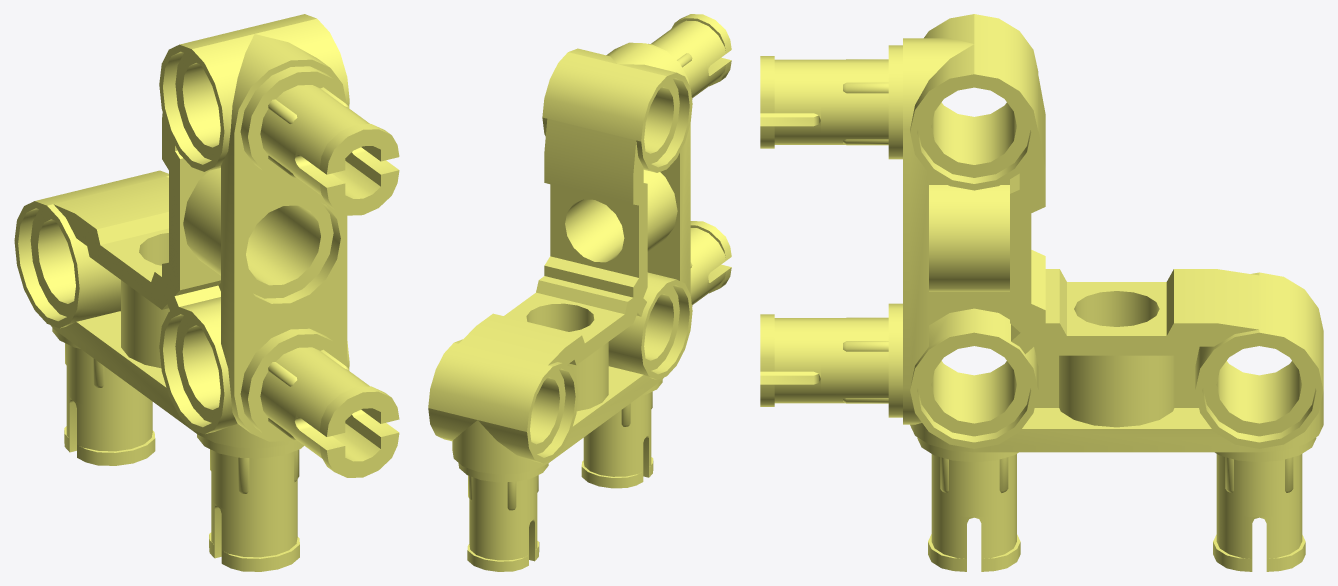
3 views of the same model, side by side, from view 1: azimuth 30°, elevation 25°; view 2: azimuth 150°, elevation 25°; view 3: azimuth 270°, elevation 25° (orthographic). The views are drawn at different scales.
Visible parts, largest first — view 1: 55615.dat; view 2: 55615.dat; view 3: 55615.dat.
Boxes of the visible parts, x1,y1,x2,y2 form: 55615.dat: (14, 14, 399, 571); 55615.dat: (428, 14, 731, 571); 55615.dat: (760, 14, 1323, 571).
Size of the model in its own units: 0.008 by 0.0316 by 0.0316.
